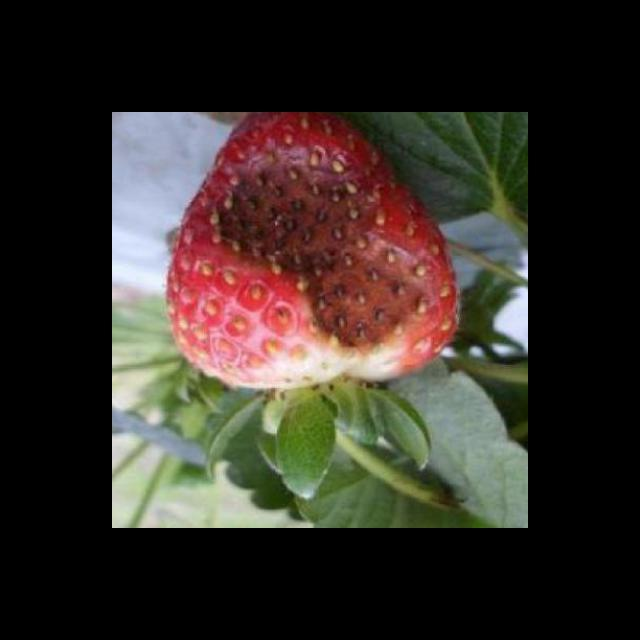Anthracnose Fruit Rot: (198, 140, 445, 357)
